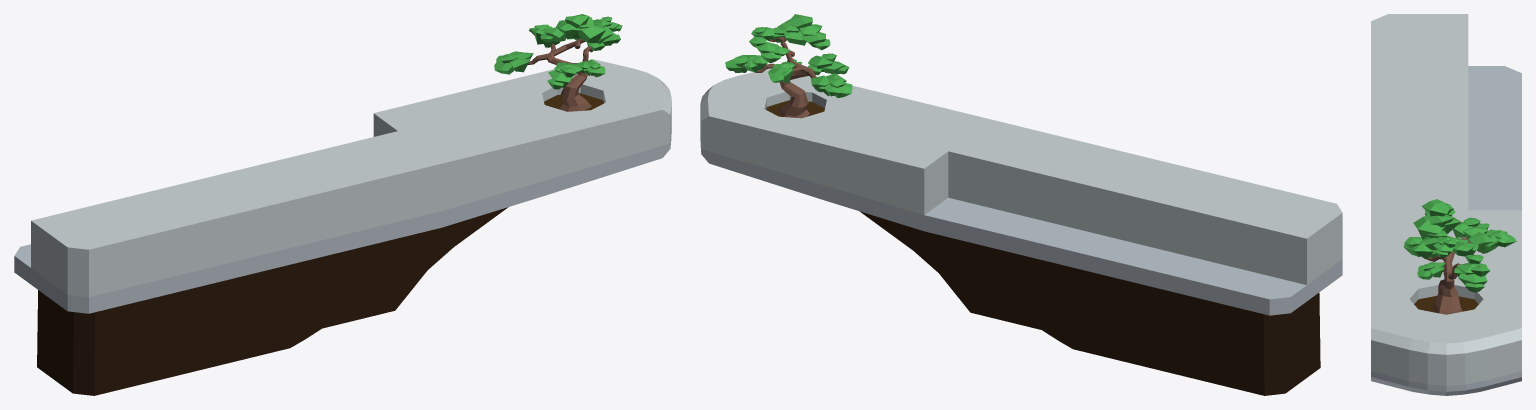
Rendered from receptionDesk.fbx.
3 renders of one model, left to right at view 1: azimuth 30°, elevation 25°; view 2: azimuth 150°, elevation 25°; view 3: azimuth 270°, elevation 25°, orthographic. The views are drawn at different scales.
Visible parts, largest first — view 1: Reception Desk, Bonsai; view 2: Reception Desk, Bonsai; view 3: Reception Desk, Bonsai.
Boxes of the visible parts, <box> form: Reception Desk: <box>14,59,671,395</box>; Bonsai: <box>494,14,622,111</box>; Reception Desk: <box>700,68,1342,395</box>; Bonsai: <box>725,14,852,118</box>; Reception Desk: <box>1371,14,1521,395</box>; Bonsai: <box>1403,199,1516,314</box>.
Size of the model in its own units: 418 by 155 by 80.
